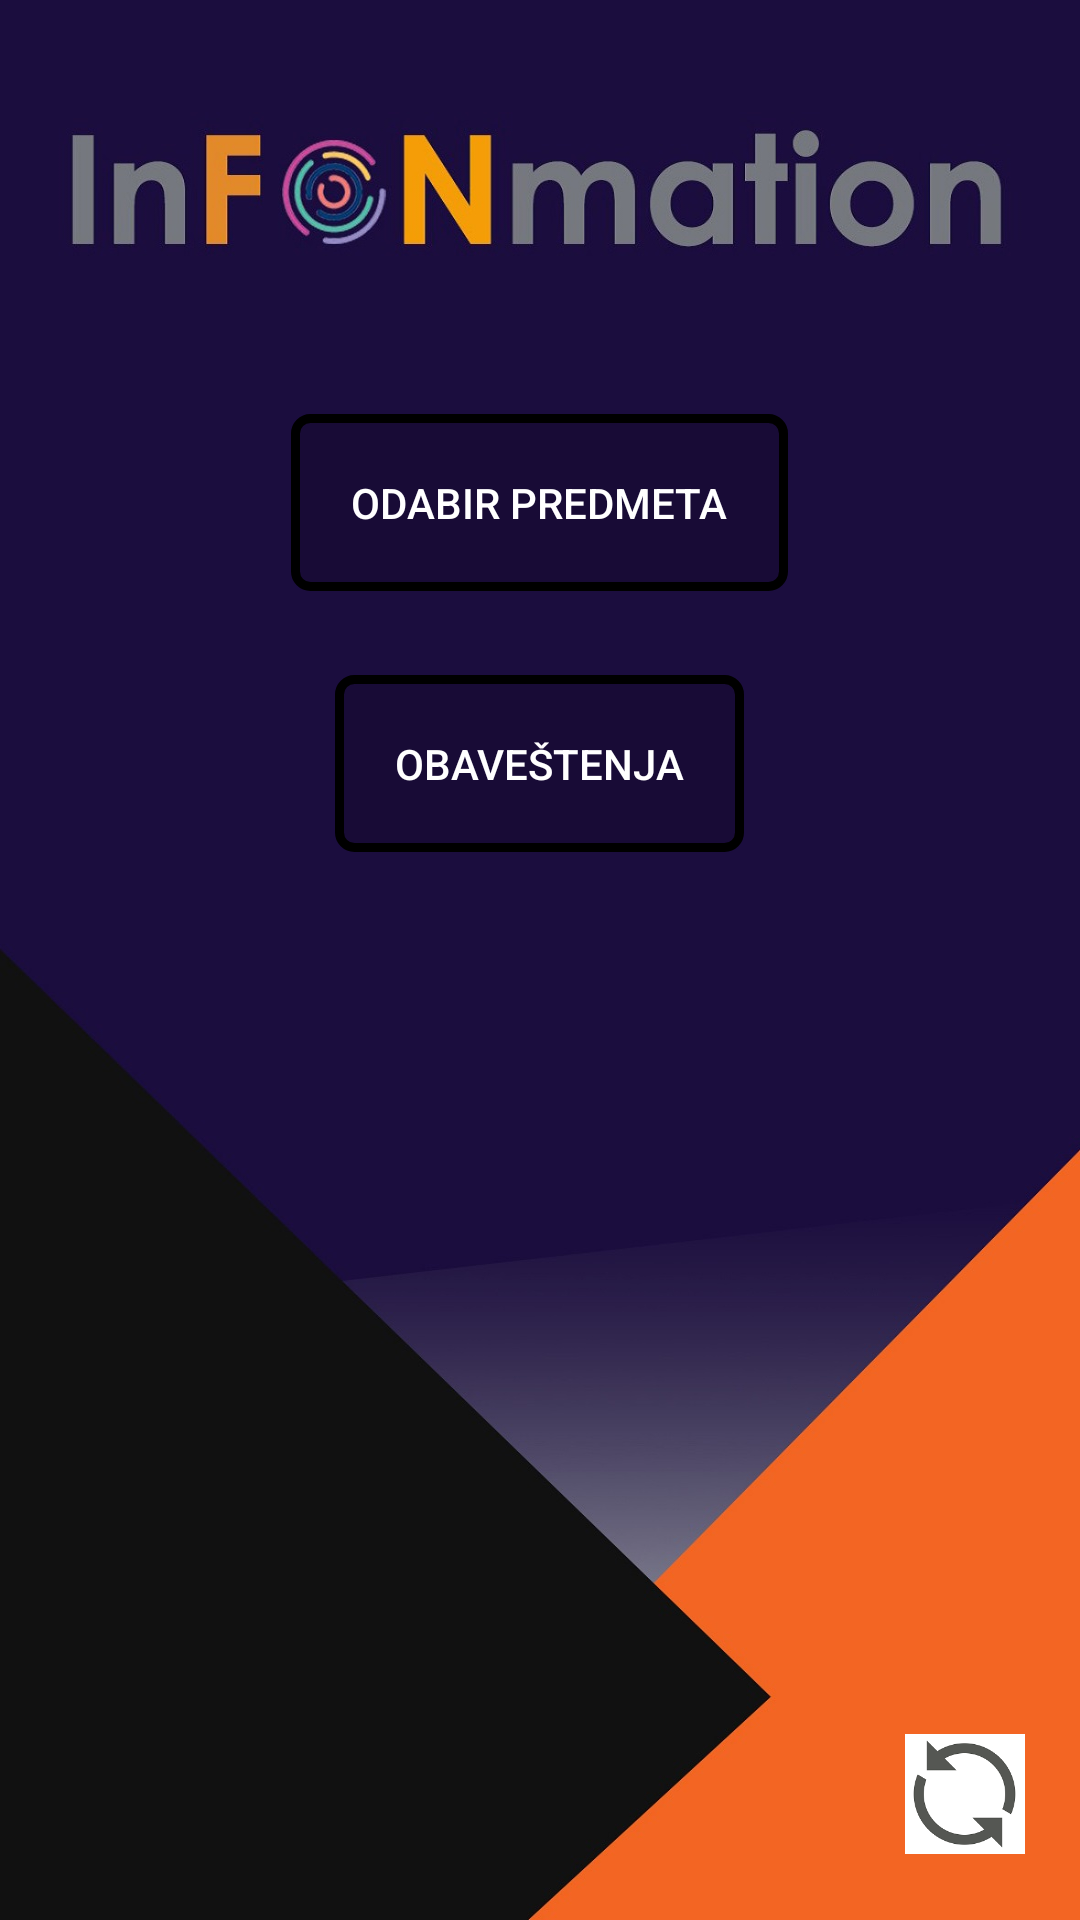

Named icons in this screenshot (1080 × 1920) and their centers, point (x, y):
refresh: point (965, 1794)
